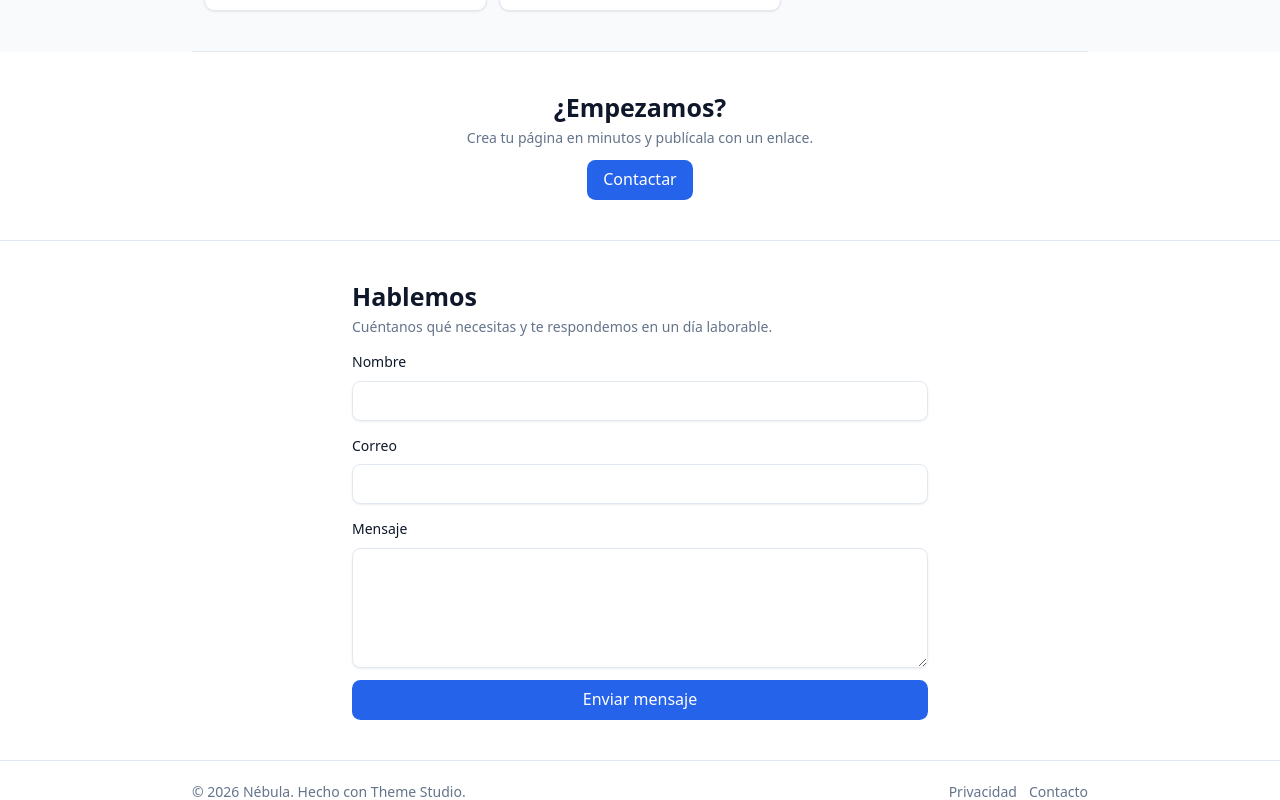
Test case: bloque form en una página pública › no envía si falta el id de la página
(page scrolled)
Step 1. Type "Ana" into the field labelled "Nombre" → x=640, y=401, box [352,381,928,421]
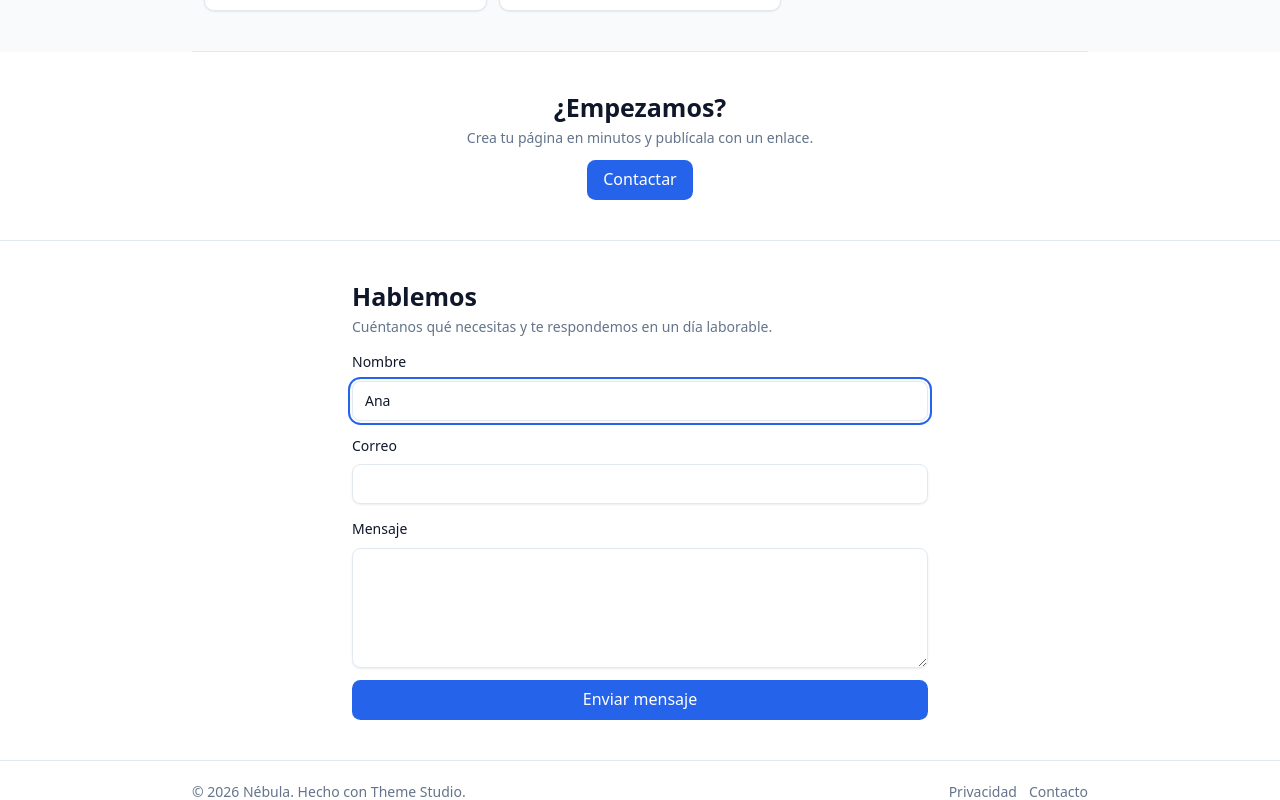
Step 2. Type "ana@example.com" into the field labelled "Correo" → x=640, y=484, box [352,464,928,504]
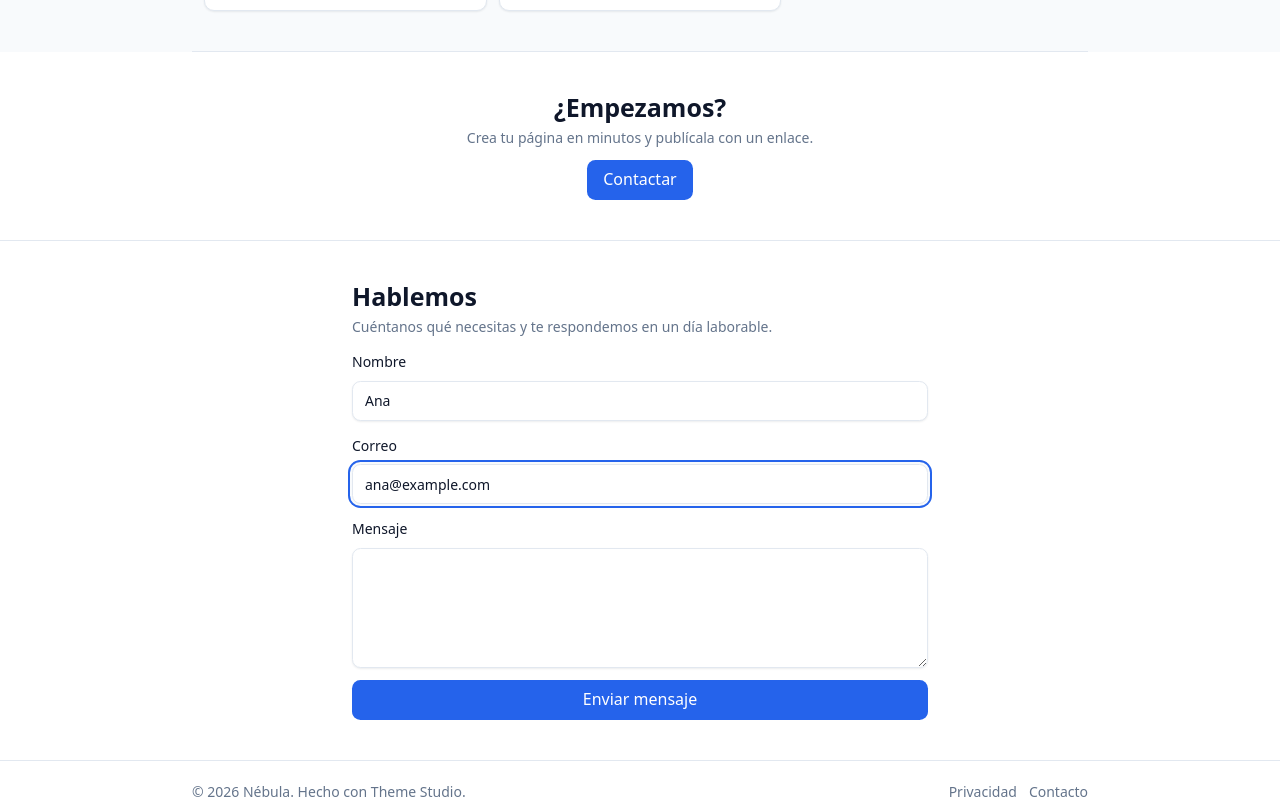
Step 3. Click the button "Enviar mensaje" → x=640, y=700, box [352,680,928,720]
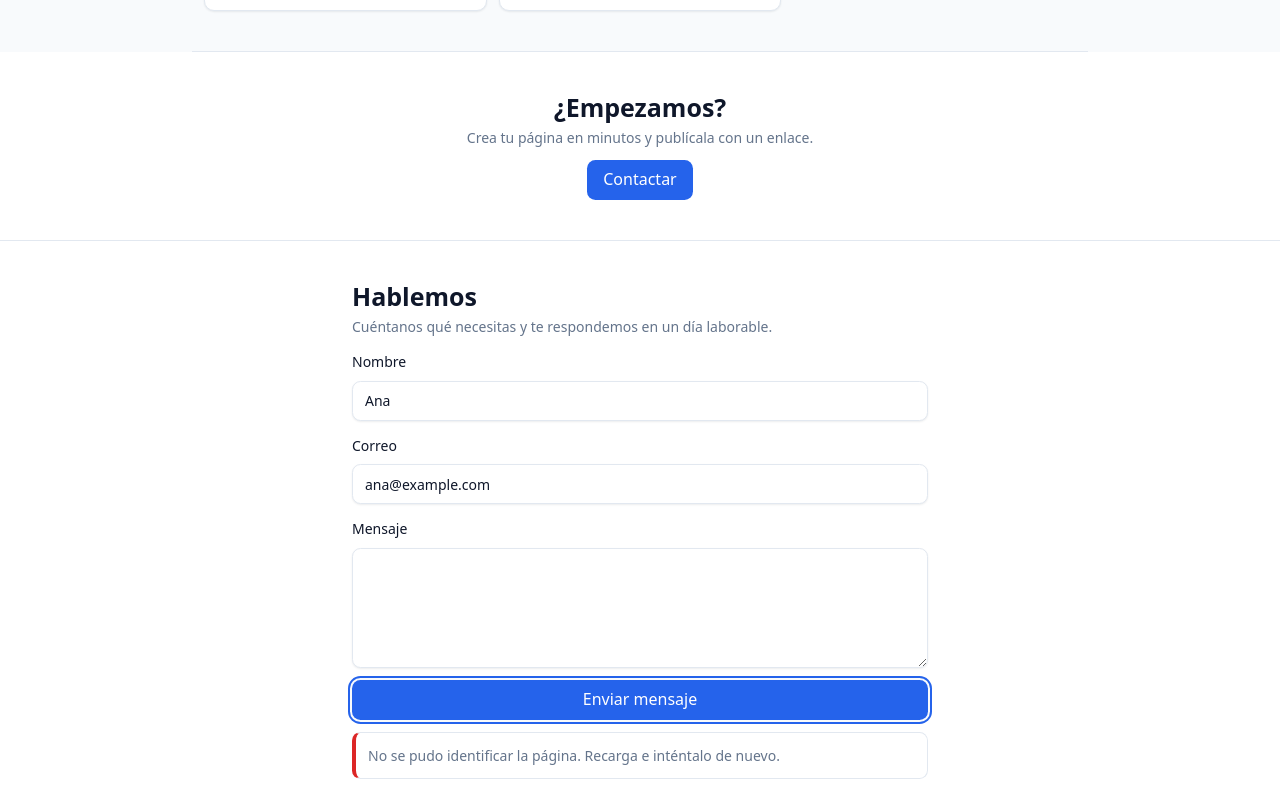
Expected: the text "No se pudo identificar la página" is shown, [368,746,780,765]
